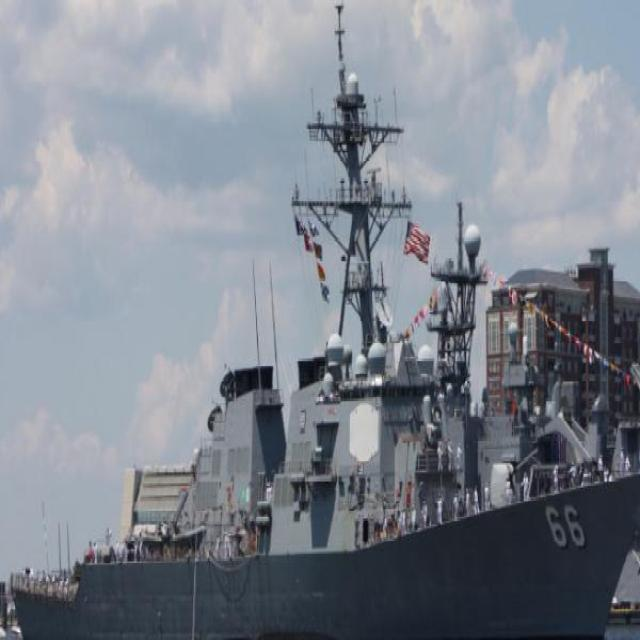Military: (9, 6, 636, 640)
